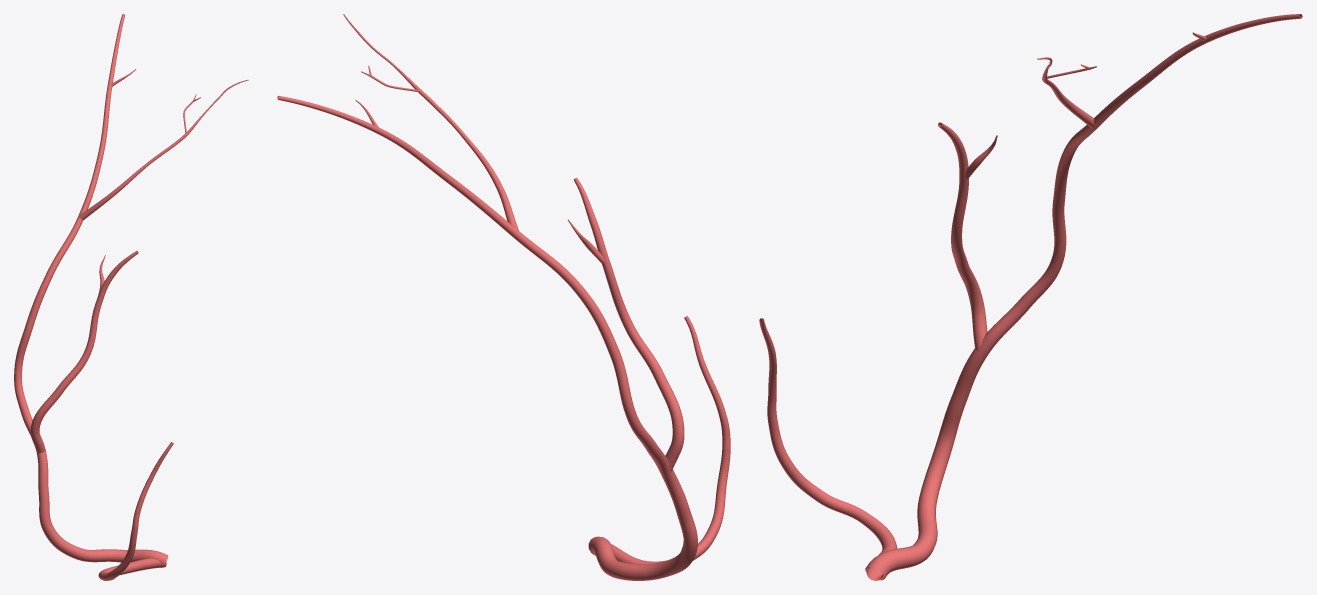
File: Artery_of_precentral_sulcus.r_BezierCurve.082.glb
3 renders of one model, left to right at view 1: azimuth 30°, elevation 25°; view 2: azimuth 150°, elevation 25°; view 3: azimuth 270°, elevation 25°, orthographic. The views are drawn at different scales.
Parts seen in each view (by area): view 1: Artery_of_precentral_sulcus.r_BezierCurve.082; view 2: Artery_of_precentral_sulcus.r_BezierCurve.082; view 3: Artery_of_precentral_sulcus.r_BezierCurve.082.
Boxes of the visible parts, x1,y1,x2,y2 form: Artery_of_precentral_sulcus.r_BezierCurve.082: (14, 14, 248, 580); Artery_of_precentral_sulcus.r_BezierCurve.082: (277, 14, 730, 580); Artery_of_precentral_sulcus.r_BezierCurve.082: (759, 14, 1302, 580).
Bounding box in the file's own units: 0.0338 × 0.058 × 0.0444.
